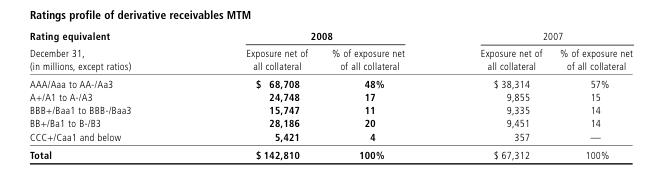table: (28, 29, 631, 160)
table column: (28, 29, 187, 160), (187, 29, 319, 160), (319, 29, 441, 160), (441, 29, 550, 160), (550, 29, 631, 160)
table column header: (28, 29, 631, 74)
table row: (28, 44, 631, 74), (28, 74, 631, 90), (28, 129, 631, 145), (28, 29, 631, 44), (28, 145, 631, 160), (28, 90, 631, 103), (28, 103, 631, 116), (28, 116, 631, 129)
table spanning cell: (28, 29, 187, 74), (187, 29, 441, 44), (441, 29, 631, 44)
